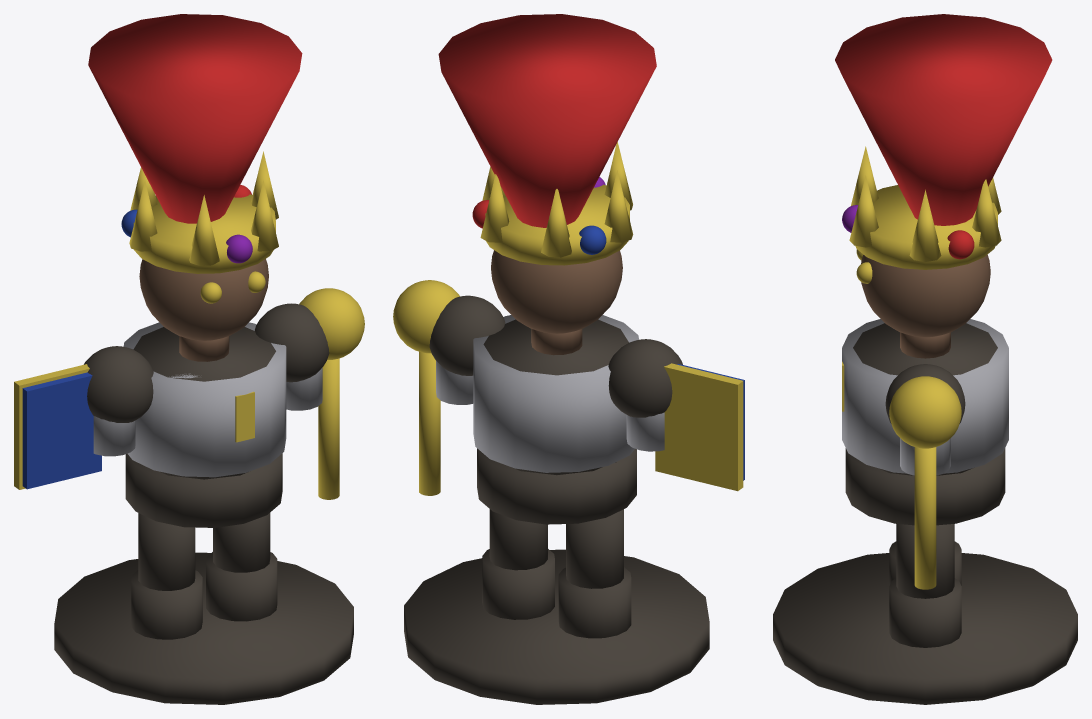
Rendered from Vuad.glb.
3 views of the same model, side by side, from view 1: azimuth 30°, elevation 25°; view 2: azimuth 150°, elevation 25°; view 3: azimuth 270°, elevation 25° (orthographic).
Parts seen in each view (by area): view 1: B_King; view 2: B_King; view 3: B_King.
Boxes of the visible parts, x1,y1,x2,y2 form: B_King: (14,14,364,704); B_King: (393,14,744,704); B_King: (773,14,1077,704).
Bounding box in the file's own units: 1.09 × 1.76 × 0.84.
